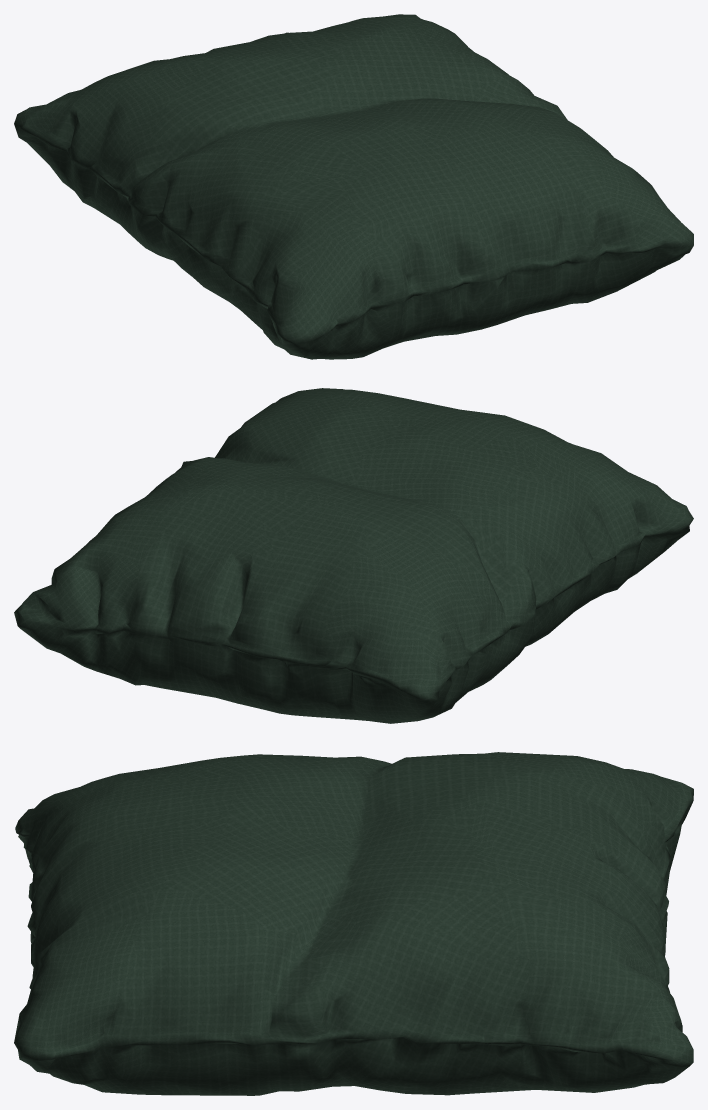
Rendered from throw_pillow_green.glb.
The picture shows the model from 3 angles, top to bottom: view 1: azimuth 30°, elevation 25°; view 2: azimuth 150°, elevation 25°; view 3: azimuth 270°, elevation 25°; orthographic projection. The views are drawn at different scales.
Visible parts, largest first — view 1: tripo_node_1e4be399-cac7-4365-a047-1261fb05ae8d; view 2: tripo_node_1e4be399-cac7-4365-a047-1261fb05ae8d; view 3: tripo_node_1e4be399-cac7-4365-a047-1261fb05ae8d.
Part boxes in pixels (x1,y1,x2,y2): tripo_node_1e4be399-cac7-4365-a047-1261fb05ae8d: [14, 14, 693, 359]; tripo_node_1e4be399-cac7-4365-a047-1261fb05ae8d: [14, 388, 693, 723]; tripo_node_1e4be399-cac7-4365-a047-1261fb05ae8d: [14, 752, 693, 1095].
Size of the model in its own units: 0.866 by 0.3591 by 1.
Materials: 1 (1 with a texture image).
